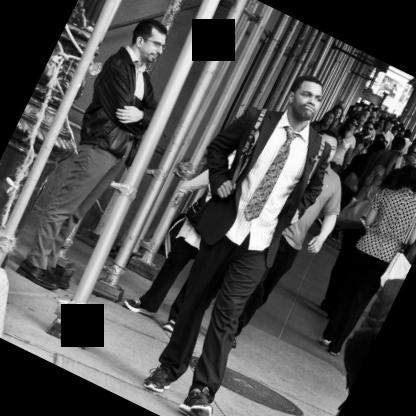handbag: (188, 106, 268, 245), (381, 213, 416, 287), (336, 186, 380, 229), (343, 172, 361, 194)
